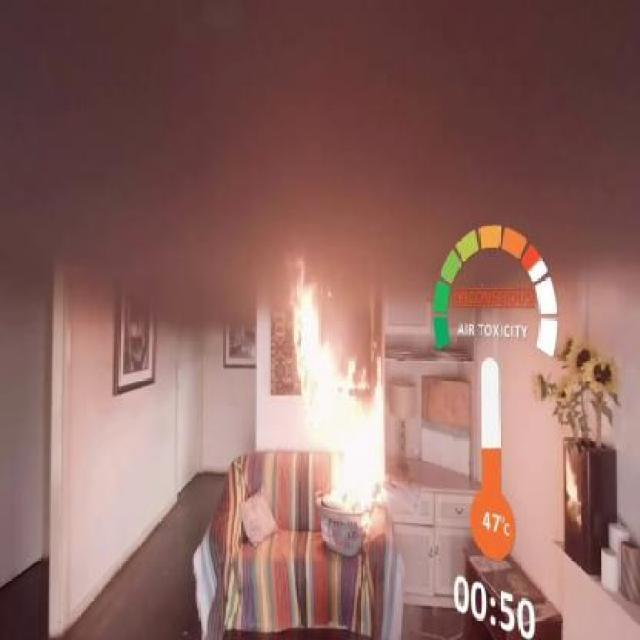fire: (288, 258, 394, 558)
smoke: (133, 16, 596, 262)
